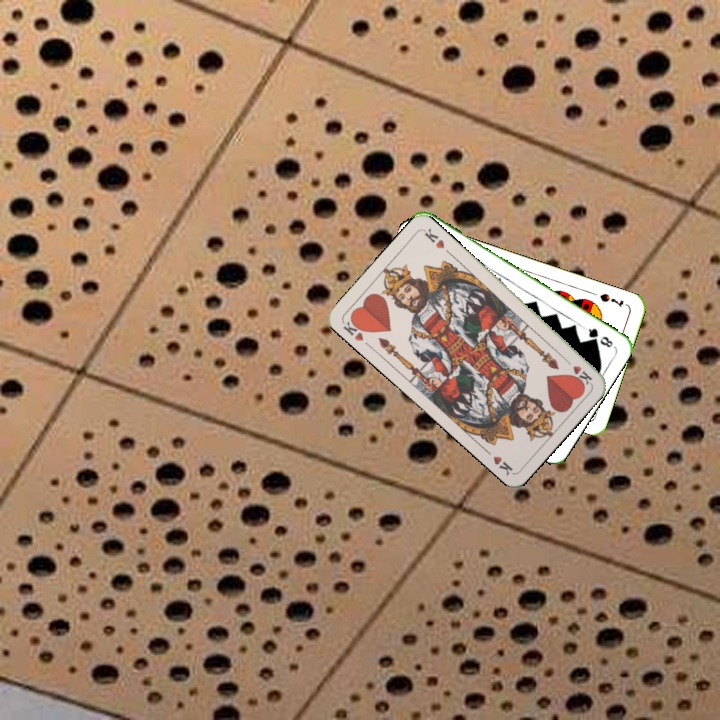G8: (580, 323, 616, 350)
HK: (560, 354, 595, 387), (339, 313, 370, 344)
S7: (596, 289, 626, 310)
